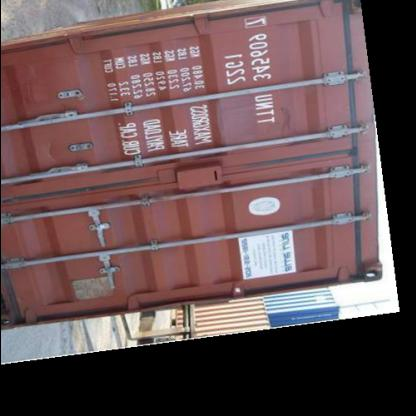Damage: (16, 50, 53, 112), (337, 120, 369, 172), (278, 100, 307, 140), (40, 132, 62, 164)
